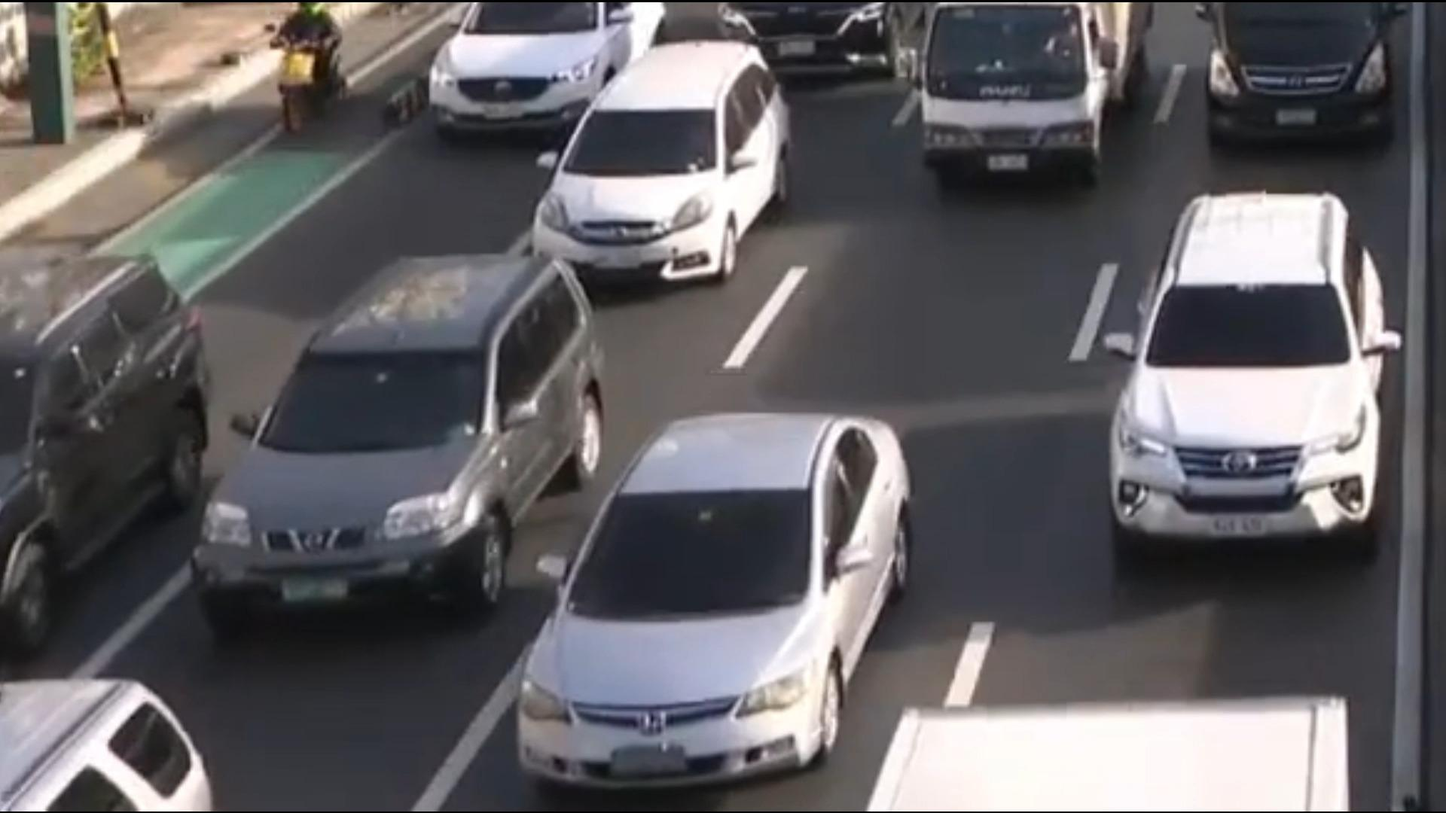Motorcycle: (271, 0, 342, 155)
SUV: (185, 253, 607, 639), (1097, 189, 1400, 580), (0, 250, 205, 653), (527, 36, 797, 288), (1205, 0, 1402, 151)
Sedan: (516, 414, 911, 792), (431, 0, 679, 137)
Truck: (920, 0, 1150, 191)
